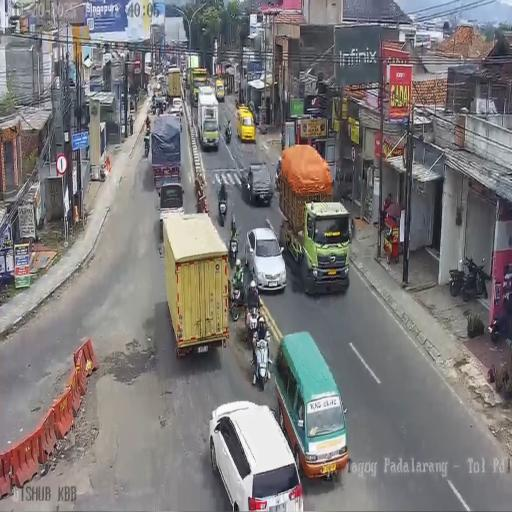car: (208, 401, 303, 511), (243, 227, 286, 295), (242, 161, 274, 207), (158, 180, 185, 232), (172, 96, 183, 118), (215, 78, 225, 102)
motorcycle: (449, 253, 489, 303), (489, 266, 512, 339), (229, 276, 247, 324), (228, 229, 239, 267), (218, 194, 228, 225), (224, 120, 232, 143), (144, 136, 150, 157), (151, 99, 156, 114), (179, 115, 183, 133), (157, 102, 162, 116), (162, 98, 166, 111)
truck: (280, 146, 351, 295), (161, 211, 231, 358), (150, 117, 182, 192), (196, 87, 220, 152), (185, 56, 205, 103), (236, 106, 256, 144), (168, 67, 182, 102), (144, 52, 152, 75)
